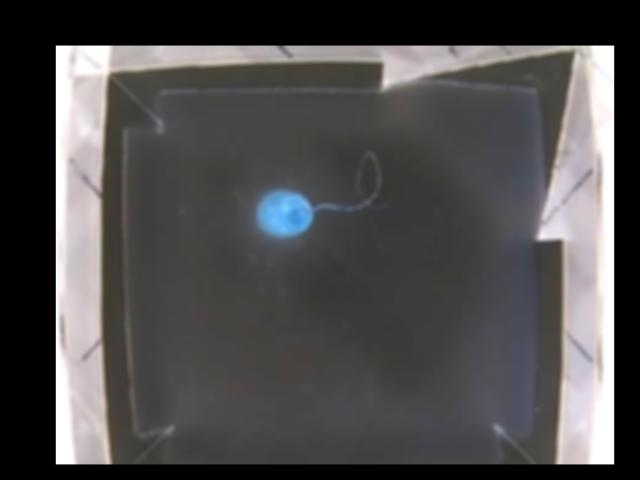Carrot: (257, 186, 316, 235)
